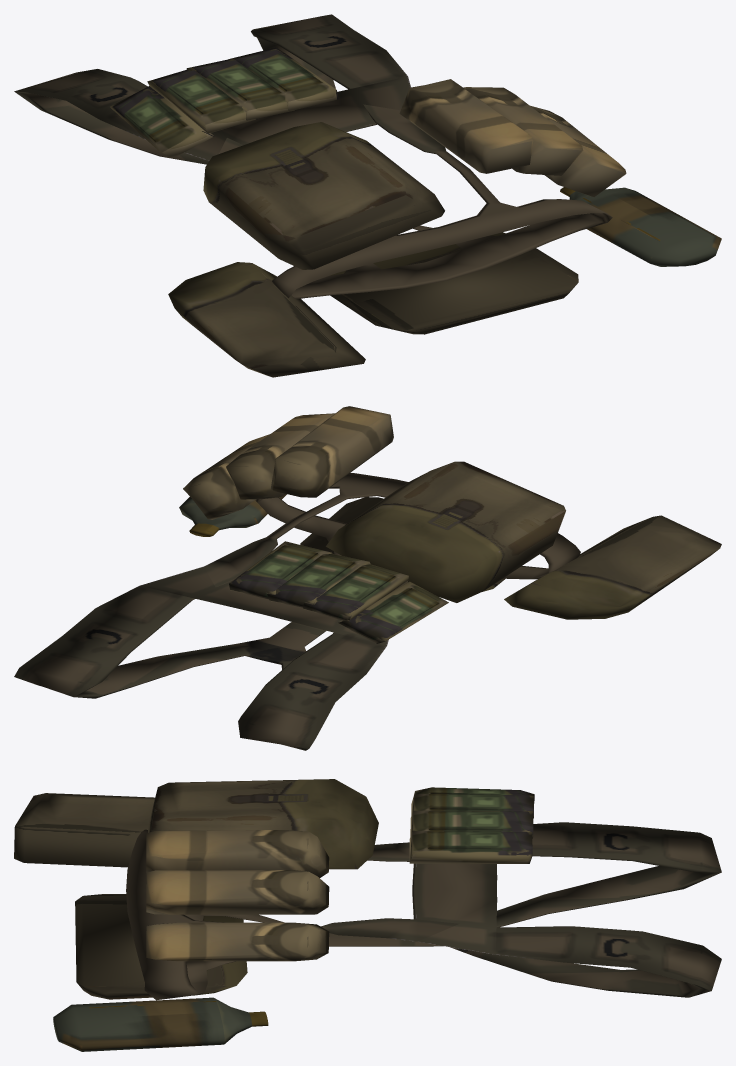
The model's file is Interceptor_Pouches_Worlditem.fbx.
The picture shows the model from 3 angles, top to bottom: view 1: azimuth 30°, elevation 25°; view 2: azimuth 150°, elevation 25°; view 3: azimuth 270°, elevation 25°; orthographic projection. The views are drawn at different scales.
Parts seen in each view (by area): view 1: Circle.003; view 2: Circle.003; view 3: Circle.003.
Boxes of the visible parts, x1,y1,x2,y2 form: Circle.003: [14, 14, 721, 377]; Circle.003: [14, 406, 721, 750]; Circle.003: [14, 779, 721, 1051].
Bounding box in the file's own units: 0.3813 × 0.0868 × 0.3115.
